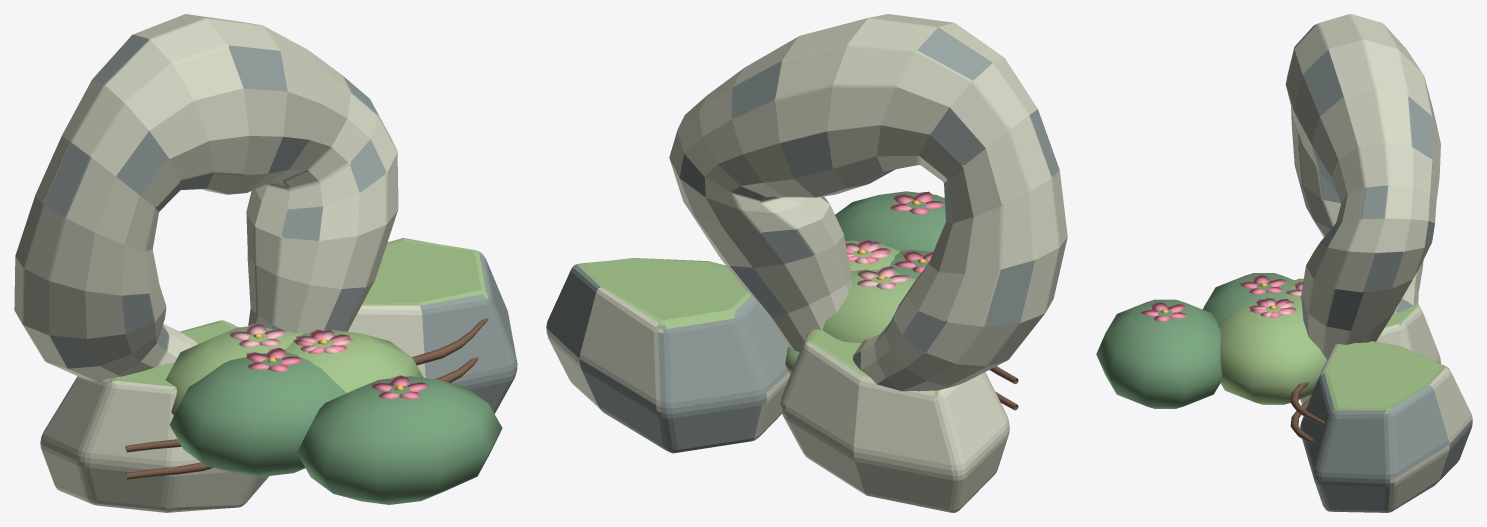
The model's file is heaven_decor_b.glb.
3 views of the same model, side by side, from view 1: azimuth 30°, elevation 25°; view 2: azimuth 150°, elevation 25°; view 3: azimuth 270°, elevation 25° (orthographic). The views are drawn at different scales.
Visible parts, largest first — view 1: Merged Worn ivory stepping stone, Merged Orchard sage grass, Merged Garden slate stone, Merged Orchard moss tips, Merged Orchard exposed earth, Merged Coral blush blossom, Merged Light blush blossom; view 2: Merged Worn ivory stepping stone, Merged Garden slate stone, Merged Orchard moss tips, Merged Orchard sage grass, Merged Coral blush blossom, Merged Light blush blossom; view 3: Merged Worn ivory stepping stone, Merged Garden slate stone, Merged Orchard moss tips, Merged Orchard sage grass, Merged Coral blush blossom, Merged Orchard exposed earth, Merged Light blush blossom.
Boxes of the visible parts, box(x1,y1,x2,y2) form: Merged Worn ivory stepping stone: box(14, 14, 425, 512); Merged Orchard sage grass: box(169, 352, 502, 504); Merged Garden slate stone: box(44, 34, 517, 413); Merged Orchard moss tips: box(107, 238, 488, 415); Merged Orchard exposed earth: box(125, 318, 488, 479); Merged Coral blush blossom: box(246, 329, 428, 399); Merged Light blush blossom: box(228, 323, 352, 353); Merged Worn ivory stepping stone: box(546, 14, 1067, 512); Merged Garden slate stone: box(546, 27, 1059, 453); Merged Orchard moss tips: box(576, 240, 939, 396); Merged Orchard sage grass: box(835, 191, 945, 279); Merged Coral blush blossom: box(846, 191, 944, 273); Merged Light blush blossom: box(845, 241, 910, 289); Merged Worn ivory stepping stone: box(1285, 14, 1472, 512); Merged Garden slate stone: box(1295, 50, 1472, 512); Merged Orchard moss tips: box(1218, 278, 1449, 413); Merged Orchard sage grass: box(1096, 273, 1293, 408); Merged Coral blush blossom: box(1141, 274, 1296, 321); Merged Orchard exposed earth: box(1290, 382, 1324, 443); Merged Light blush blossom: box(1249, 281, 1303, 317).
Size of the model in its own units: 1.64 by 1.44 by 1.3.
